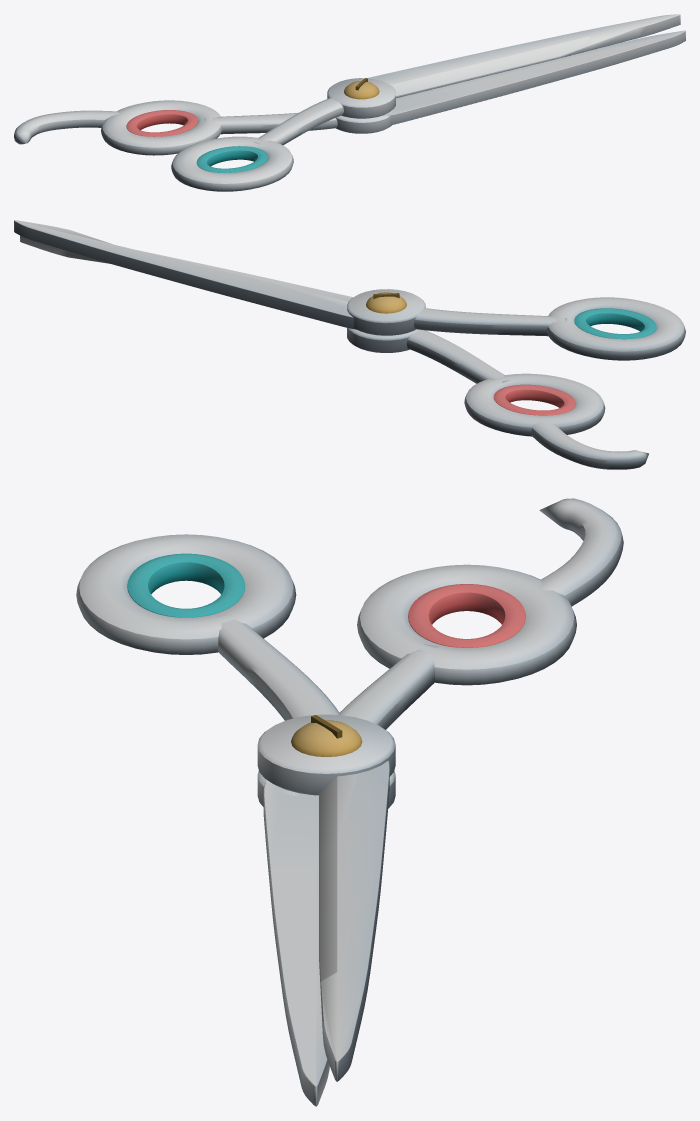
Rendered from scissors.glb.
The picture shows the model from 3 angles, top to bottom: view 1: azimuth 30°, elevation 25°; view 2: azimuth 150°, elevation 25°; view 3: azimuth 270°, elevation 25°; orthographic projection. The views are drawn at different scales.
Visible parts, largest first — view 1: BladeA, BladeB; view 2: BladeA, BladeB; view 3: BladeA, BladeB.
Boxes of the visible parts, left/top/right/bottom form: BladeA: left=171, top=14, right=680, bottom=191; BladeB: left=14, top=30, right=685, bottom=155; BladeA: left=14, top=220, right=685, bottom=360; BladeB: left=20, top=235, right=648, bottom=469; BladeA: left=76, top=534, right=395, bottom=1081; BladeB: left=257, top=498, right=623, bottom=1106.
Size of the model in its own units: 0.1848 by 0.0126 by 0.0722.
